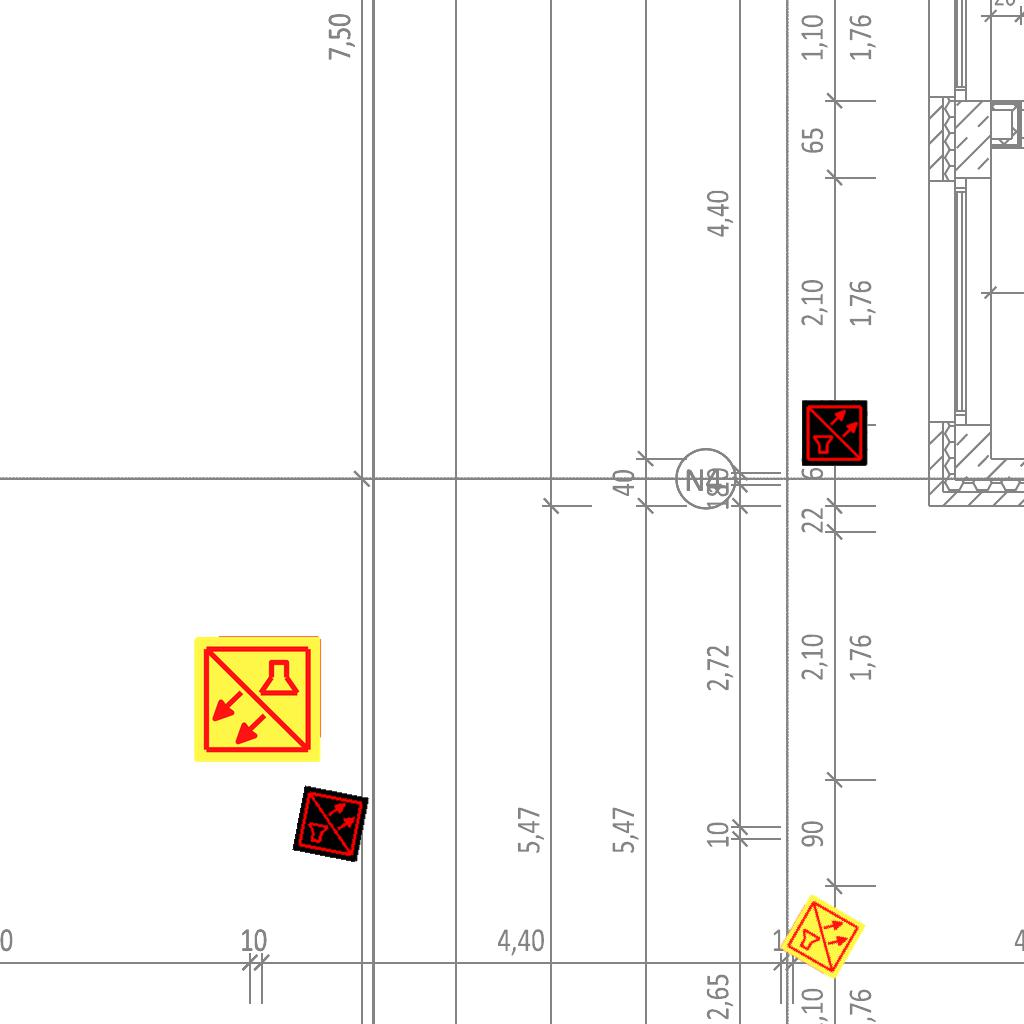OKW_Multisensormelder_(Kombination_optischer_Rauch-Kahlenmonoxid_Waerme-Melder): (191, 633, 323, 765), (777, 891, 869, 983), (292, 785, 370, 863), (802, 400, 868, 466)
